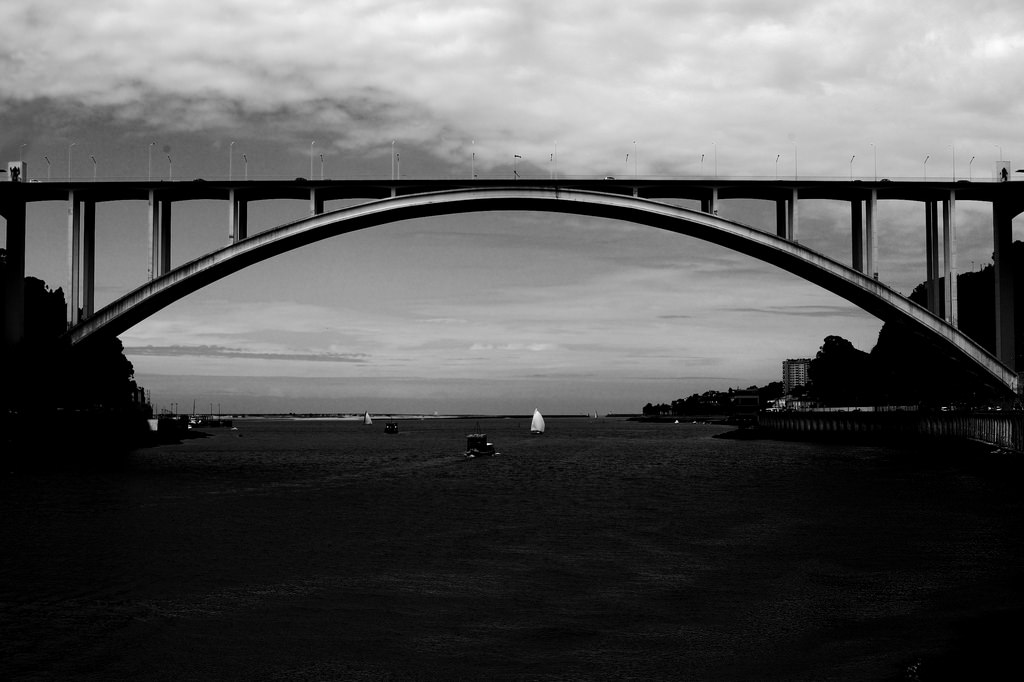arrabida: (0, 158, 1023, 400)
